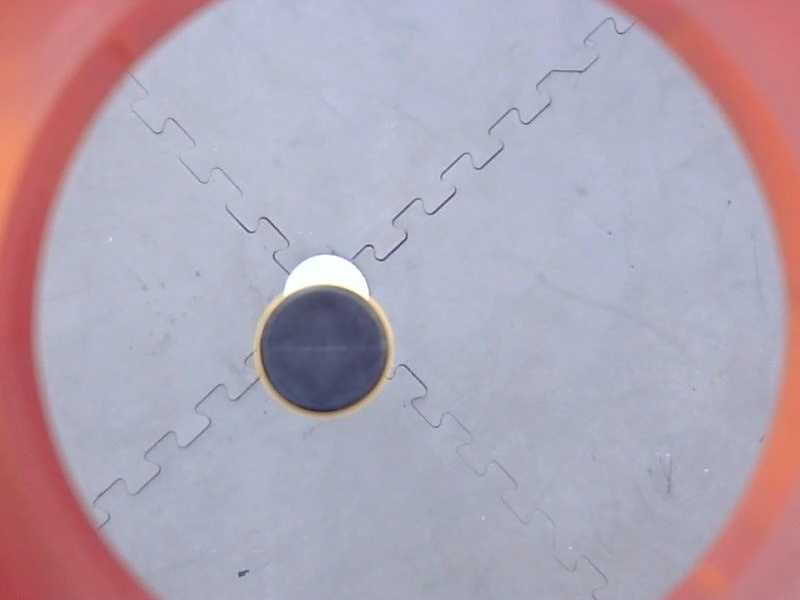tip: (245, 276, 401, 426)
